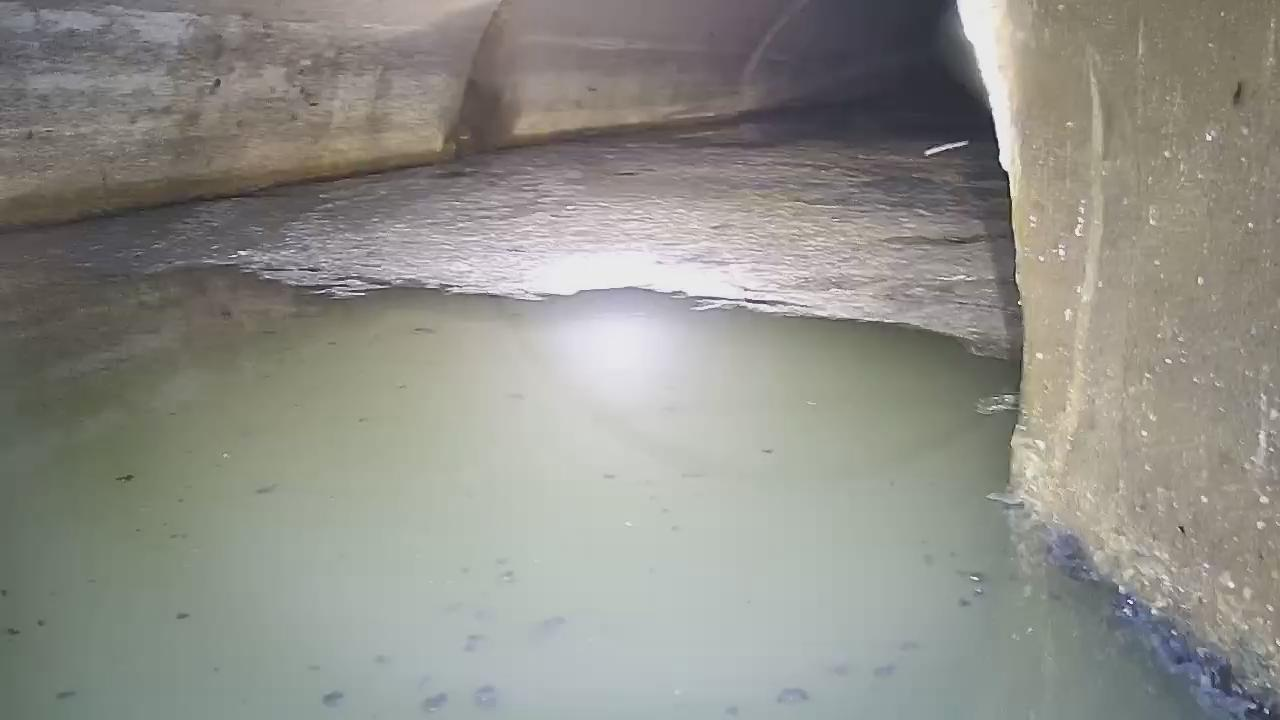FZ: (0, 105, 1016, 358)
